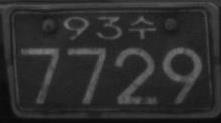2: (114, 45, 158, 105)
3: (95, 15, 122, 40)
7: (66, 45, 105, 104), (20, 47, 59, 103)
9: (162, 45, 202, 104), (63, 15, 90, 39)
수: (129, 15, 155, 40)
